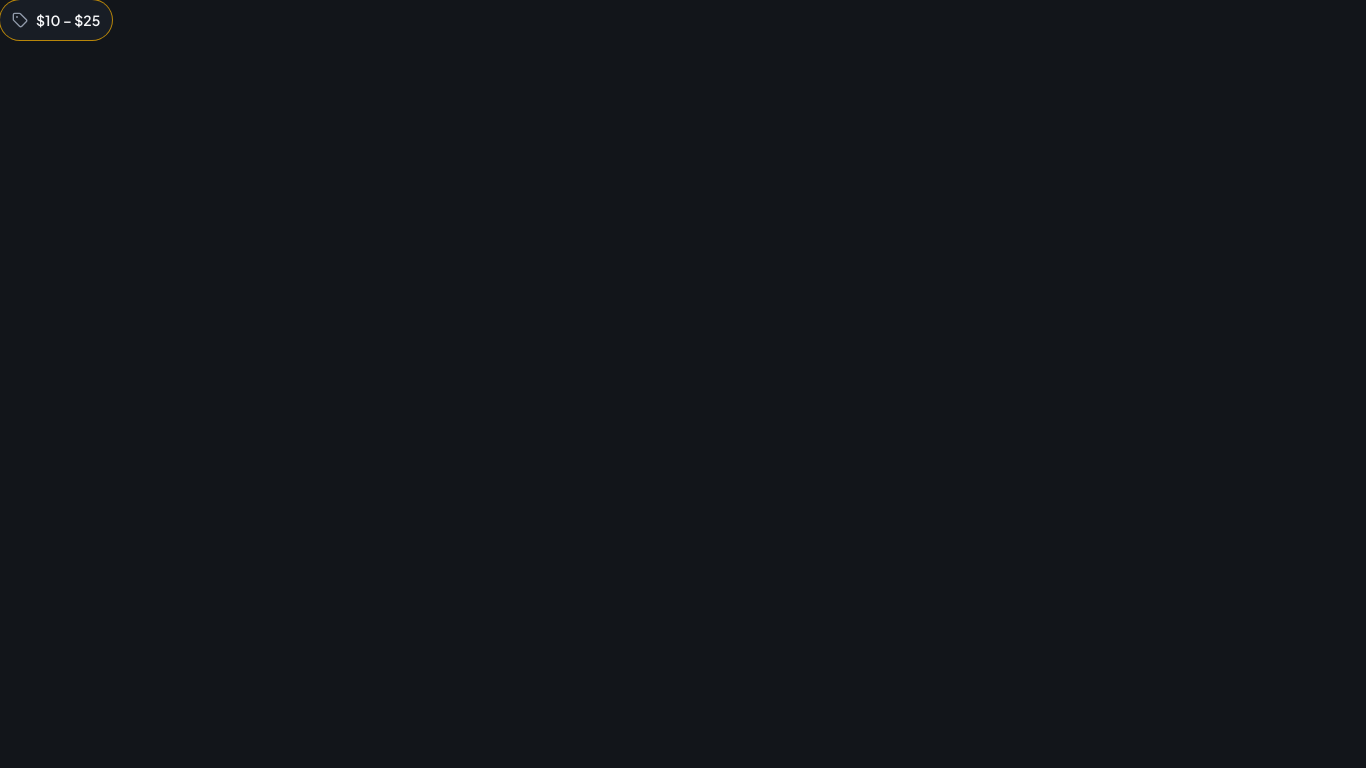
Test: price filter on a phone › shows the active range on the button, marks its quick pick, and clears it
Later steps or results of the test are not shown.
Click the button named "Price". click: [56, 20]
box: [0,0,112,40]
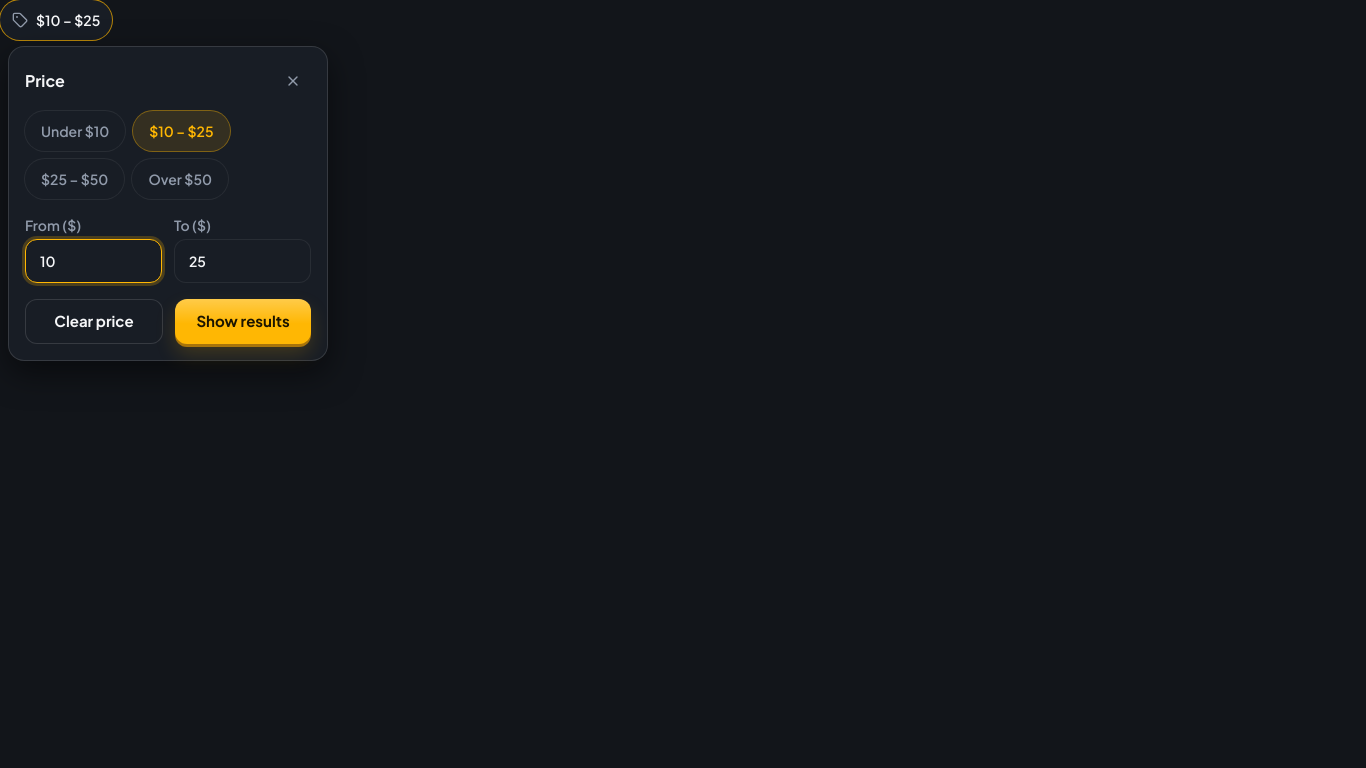
Now the 2nd button "$10 – $25" is shown, box [133,111,230,151]
